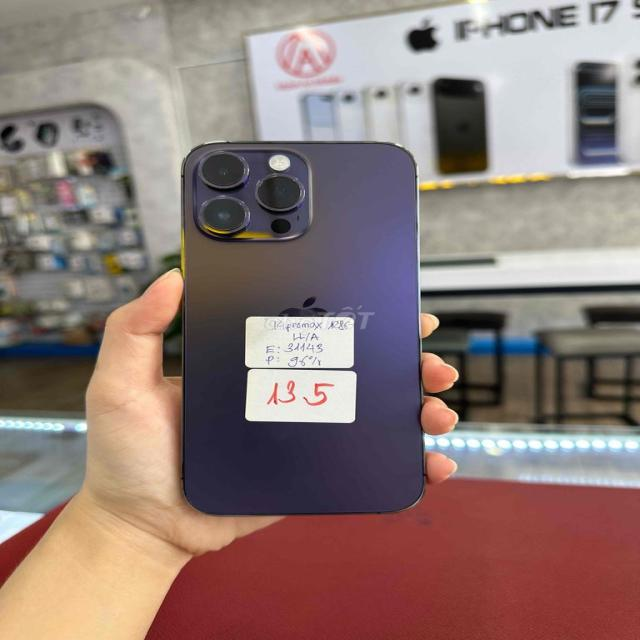gen_14: (168, 134, 445, 534)
